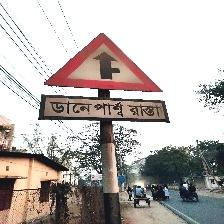Side-road-right: (41, 34, 168, 122)
